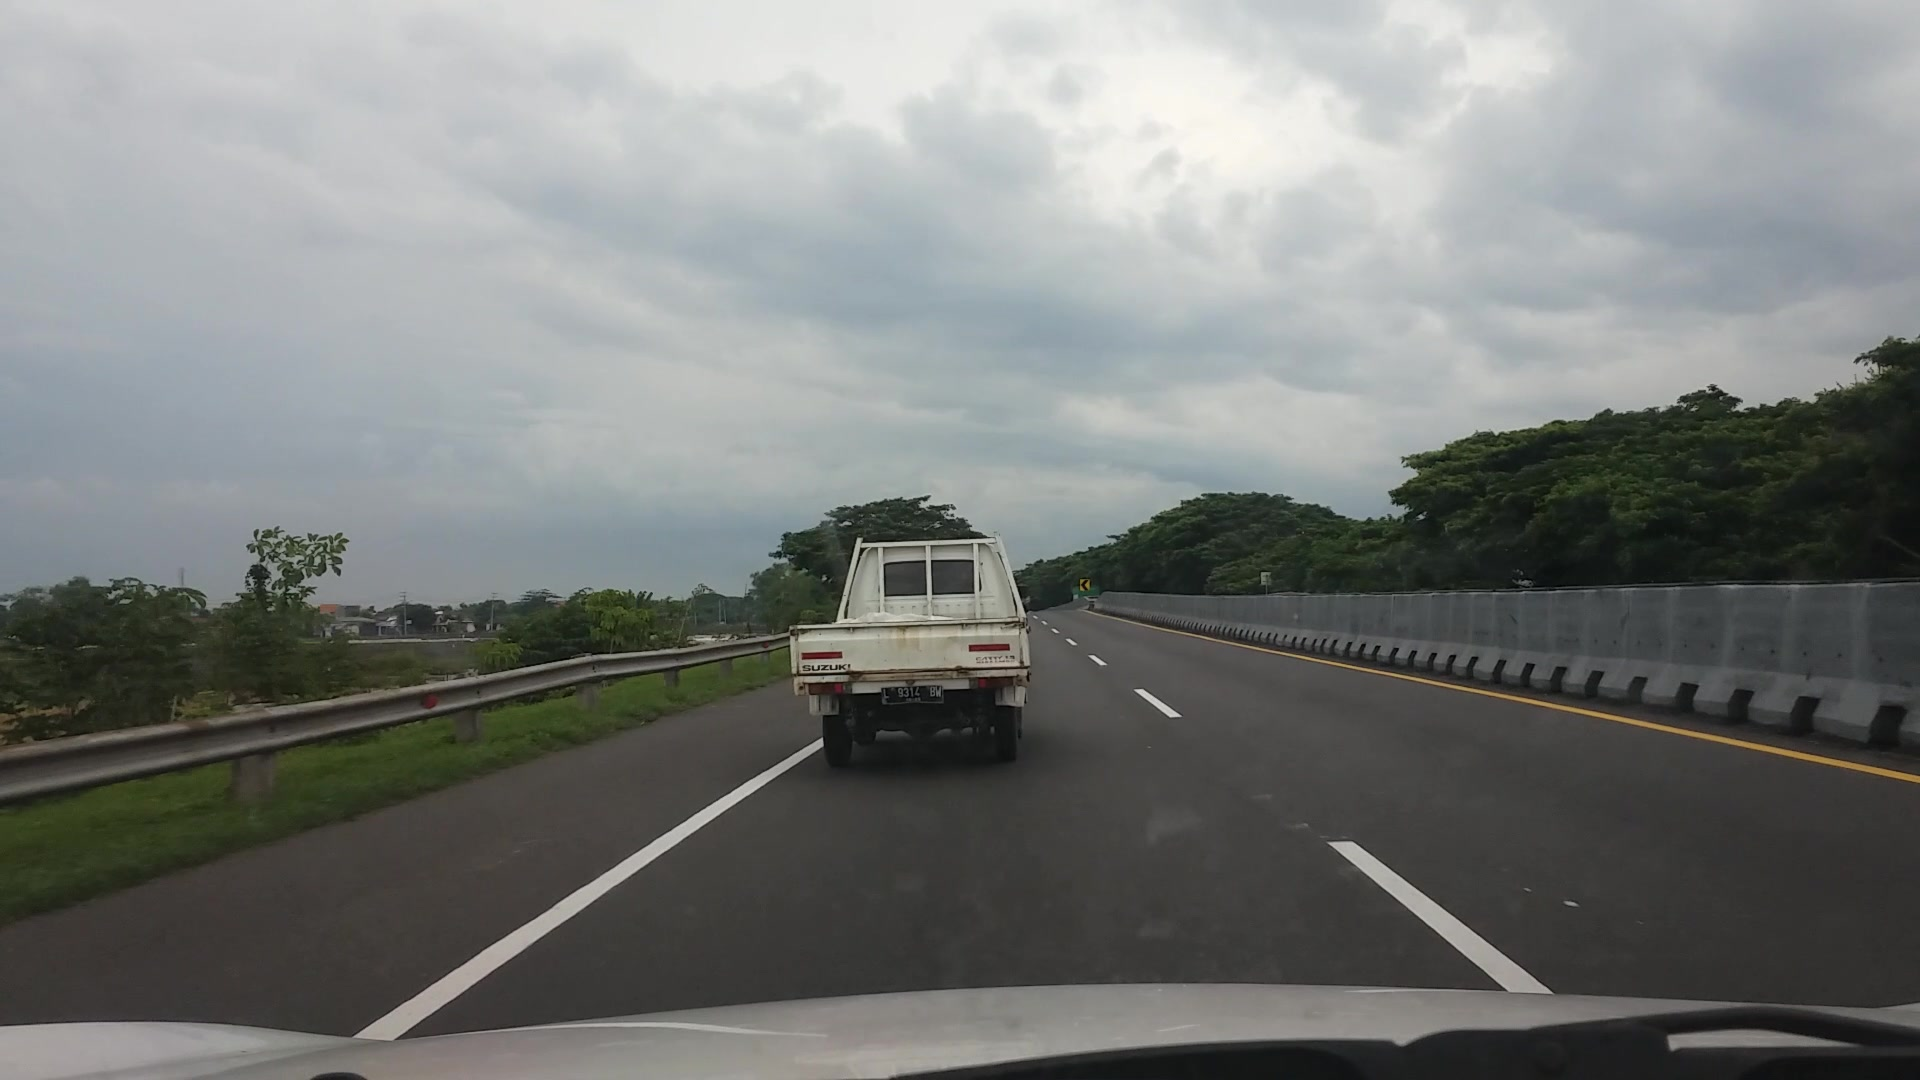plate_positive: (881, 684, 943, 705)
